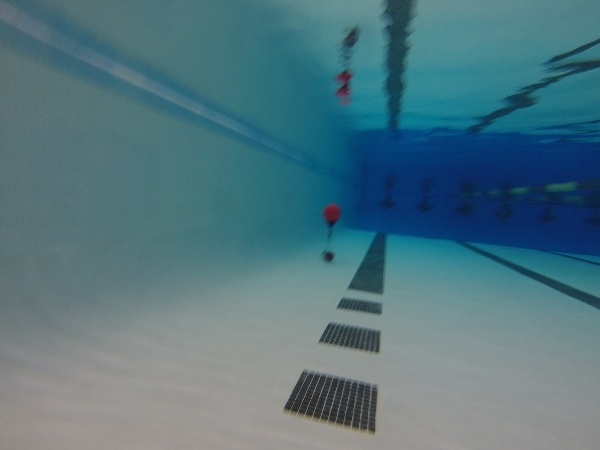buoy_red: (323, 202, 342, 229)
